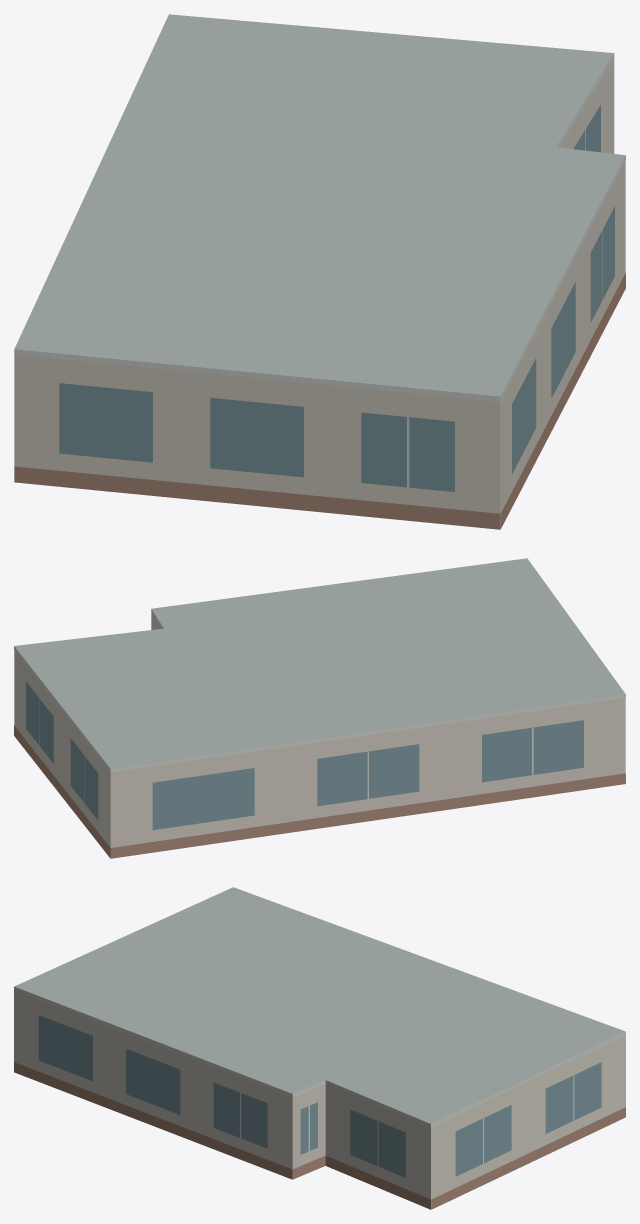
The model's file is survey-upis-32761956.glb.
The picture shows the model from 3 angles, top to bottom: view 1: azimuth 30°, elevation 25°; view 2: azimuth 150°, elevation 25°; view 3: azimuth 270°, elevation 25°; orthographic projection. The views are drawn at different scales.
Parts seen in each view (by area): view 1: survey-upis-32761956.tmp; view 2: survey-upis-32761956.tmp; view 3: survey-upis-32761956.tmp.
Part boxes in pixels (x1,y1,x2,y2): survey-upis-32761956.tmp: [14, 14, 625, 529]; survey-upis-32761956.tmp: [14, 558, 625, 858]; survey-upis-32761956.tmp: [14, 887, 625, 1209].
Size of the model in its own units: 18.08 by 3.05 by 19.73.
